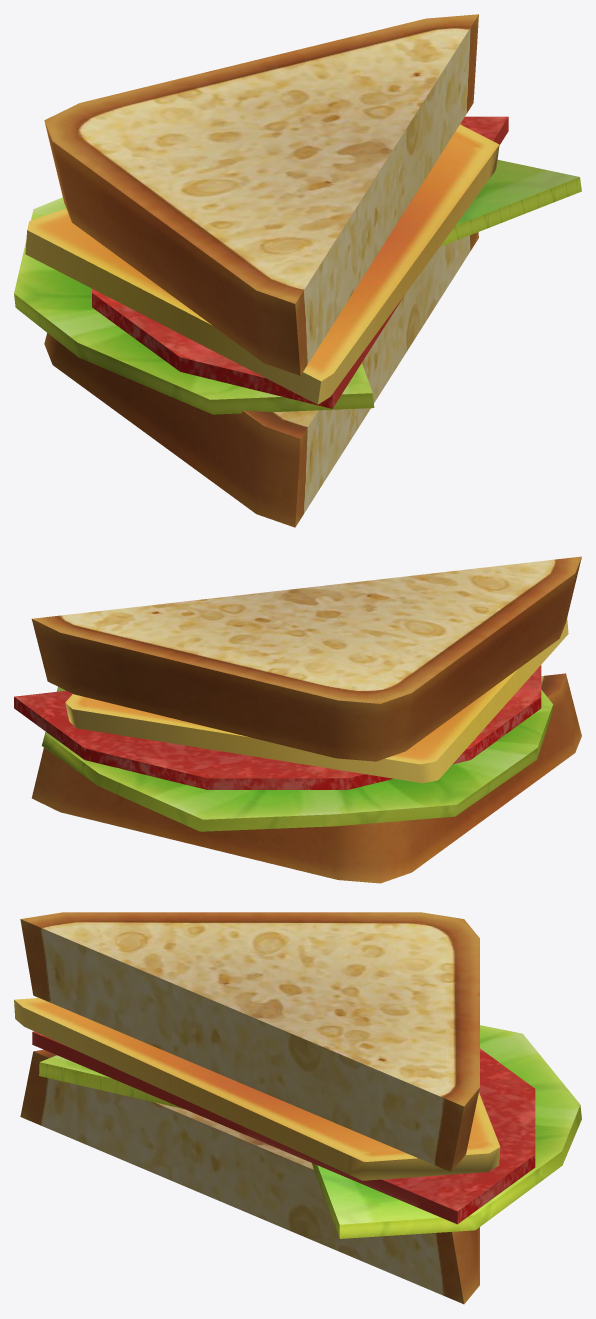
The picture shows the model from 3 angles, top to bottom: view 1: azimuth 30°, elevation 25°; view 2: azimuth 150°, elevation 25°; view 3: azimuth 270°, elevation 25°; orthographic projection. The views are drawn at different scales.
Visible parts, largest first — view 1: SE_Sandwich_02; view 2: SE_Sandwich_02; view 3: SE_Sandwich_02.
Boxes of the visible parts, x1,y1,x2,y2 form: SE_Sandwich_02: (14, 14, 581, 527); SE_Sandwich_02: (14, 556, 581, 883); SE_Sandwich_02: (14, 912, 581, 1304).
Size of the model in its own units: 1.69 by 0.66 by 1.72.
Materials: 1 (1 with a texture image).
